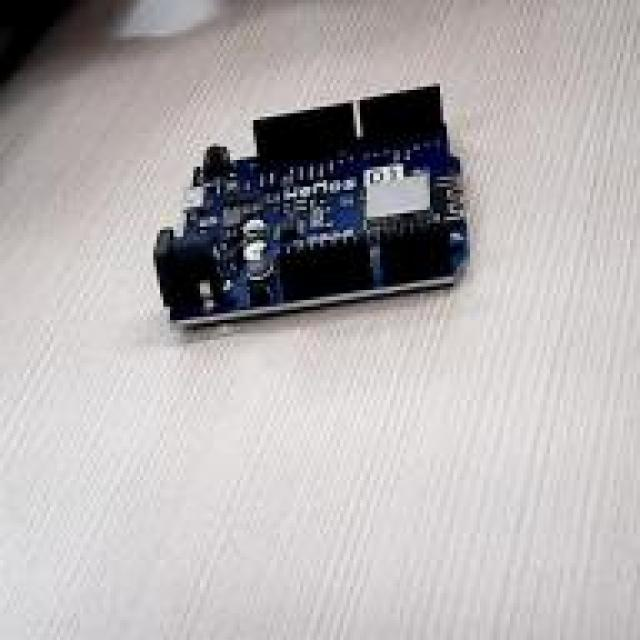Wemos: (154, 84, 468, 324)
